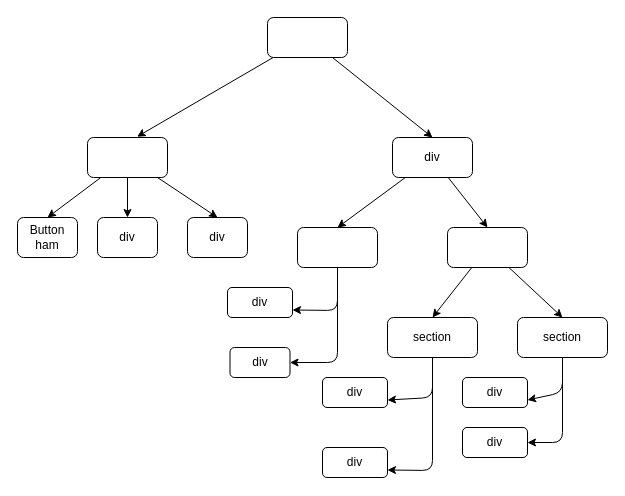
The diagram is 625 pixels wide and 496 high, and some of its shapes have lost their labels. Here are the shapes that lost their labels. From the top down, the centre of each, then its label:
At point (307, 37): "App".
At point (127, 157): "Aside".
At point (337, 247): "header".
At point (487, 247): "main".
